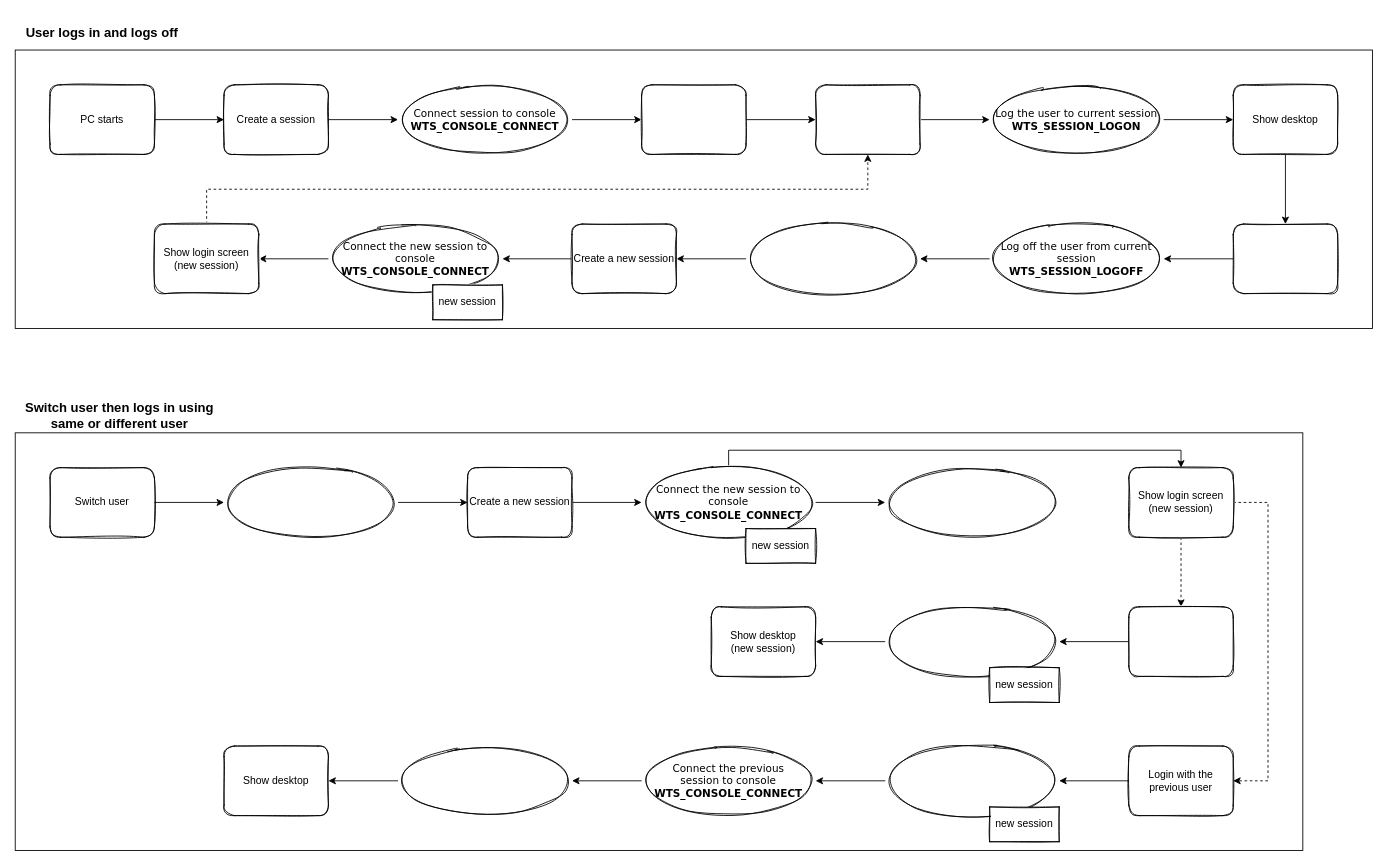
This 1388x866 diagram has some shape labels left out. Here are the shapes that lost their labels. From the top down, the centre of each, then its label:
At pixel 693 119: "Logon screen is shown".
At pixel 867 119: "User logs in".
At pixel 832 258: "Disconnect console WTS_CONSOLE_DISCONNECT".
At pixel 1285 258: "User logs off".
At pixel 310 502: "Disconnect console from current session WTS_CONSOLE_DISCONNECT".
At pixel 971 502: "Lock the previous session WTS_SESSION_LOCK".
At pixel 971 641: "Log in the user with the newly created session WTS_SESSION_LOGON".
At pixel 1180 641: "Login with a different user".
At pixel 484 780: "Unlock the session WTS_SESSION_UNLOCK".
At pixel 971 780: "Disconnect the new session from console WTS_CONSOLE_DISCONNECT".
